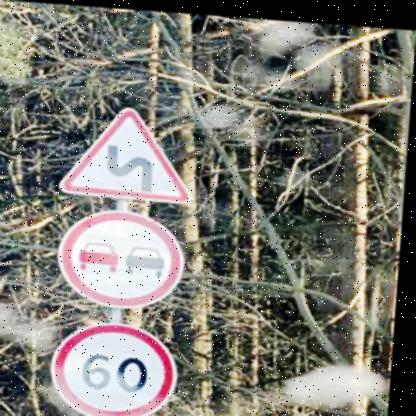Speed Limit -60-: (52, 318, 185, 416)
